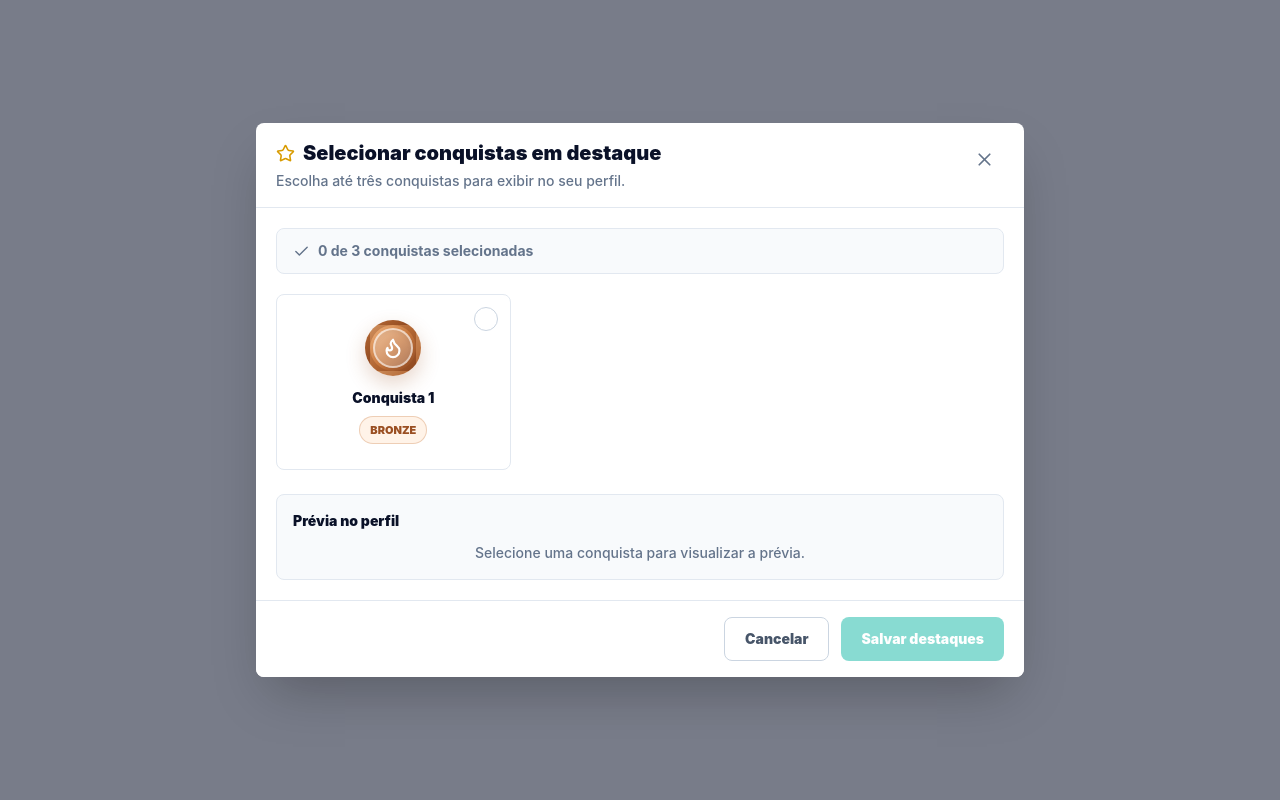
it: AchievementHighlightsModal › mostra o erro conhecido sem fechar o modal
Click the button "Conquista 1 Bronze" at (393,382), box [276, 294, 511, 470]
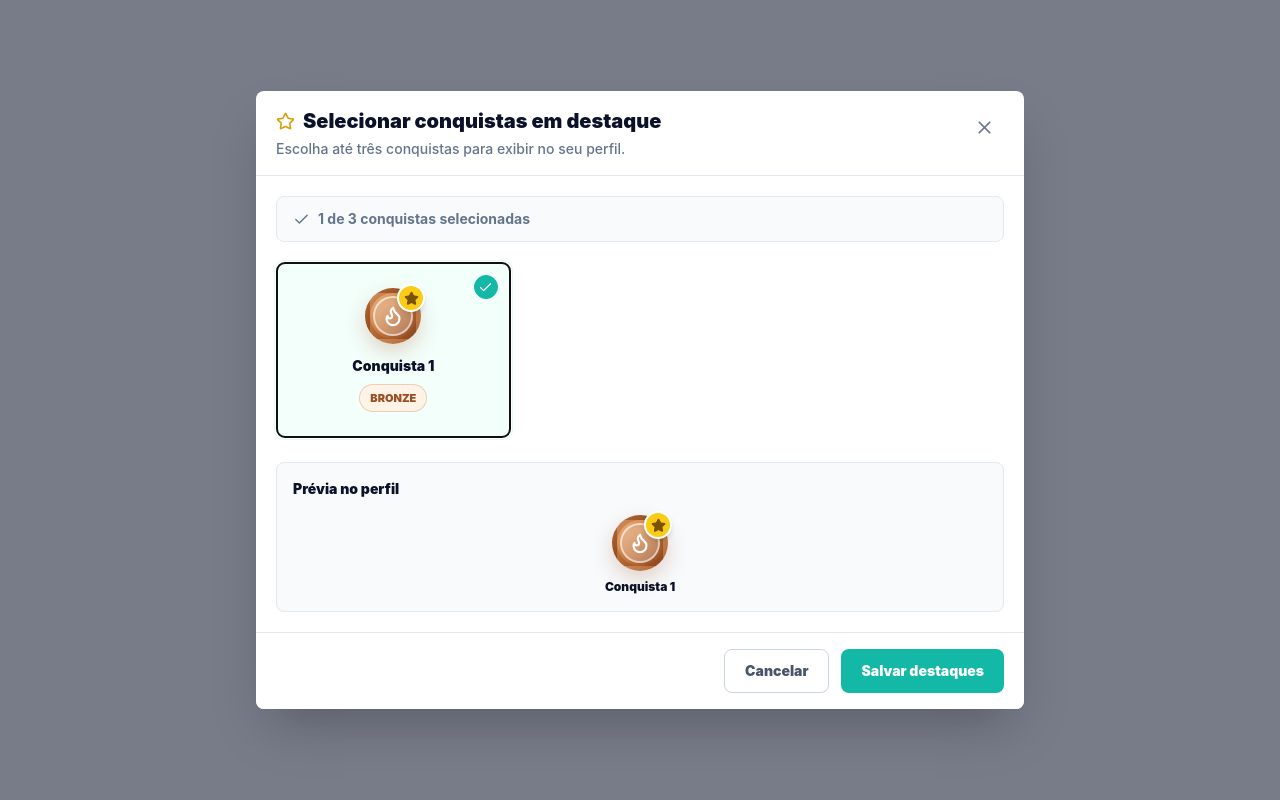
Click the button "Salvar destaques" at (923,671), box [842, 649, 1004, 693]
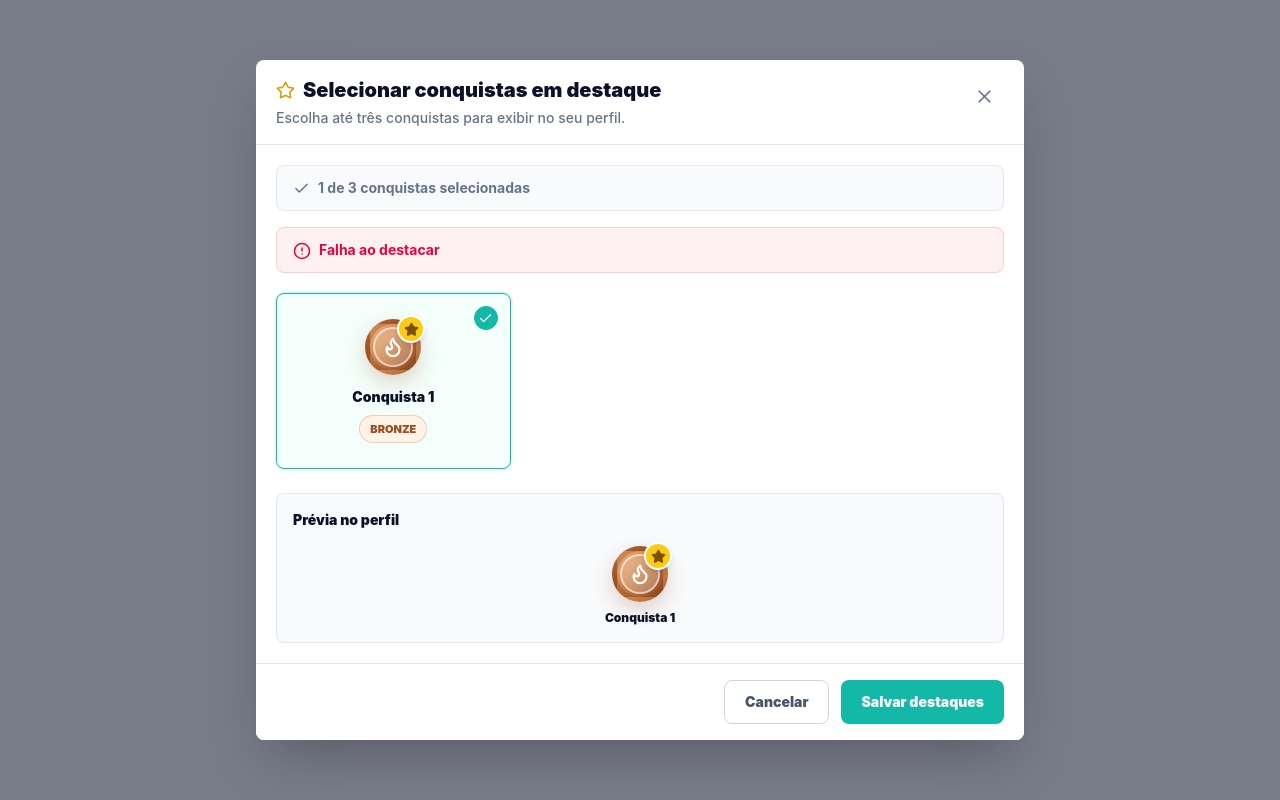
Expected: the message reads "Falha ao destacar", [319, 241, 440, 258]
